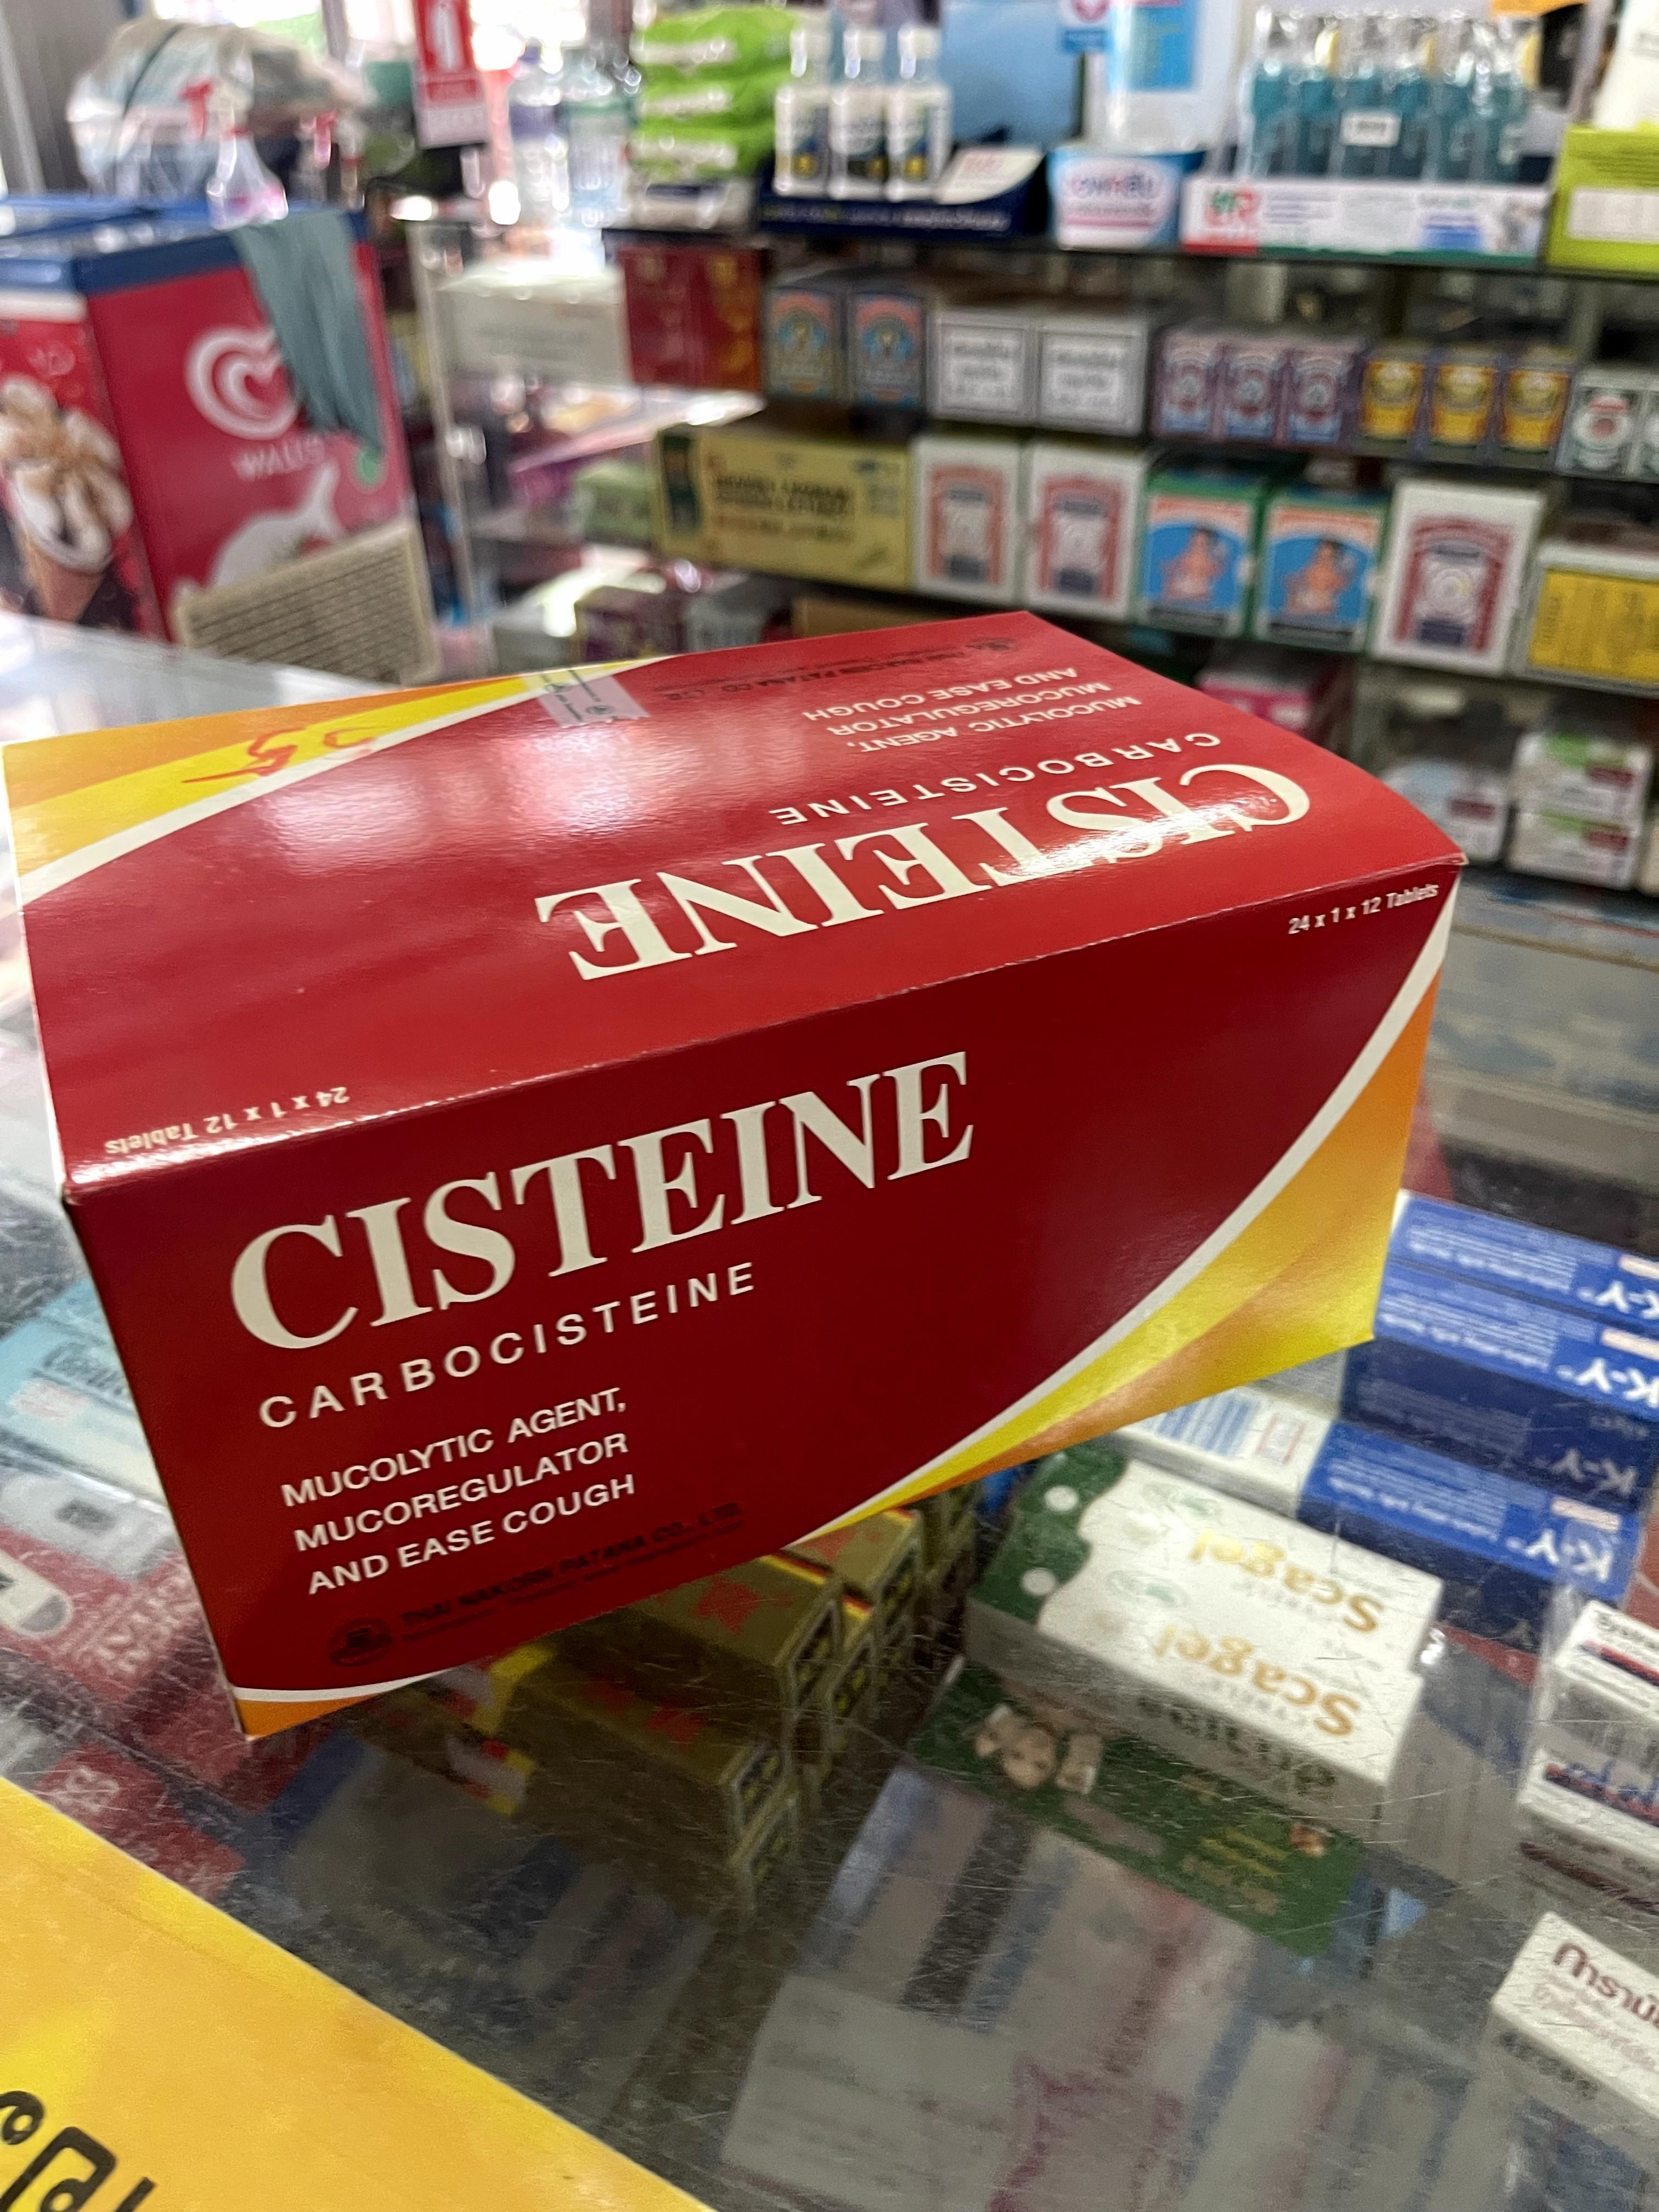Cisteine_Box: (0, 615, 1452, 1737)
